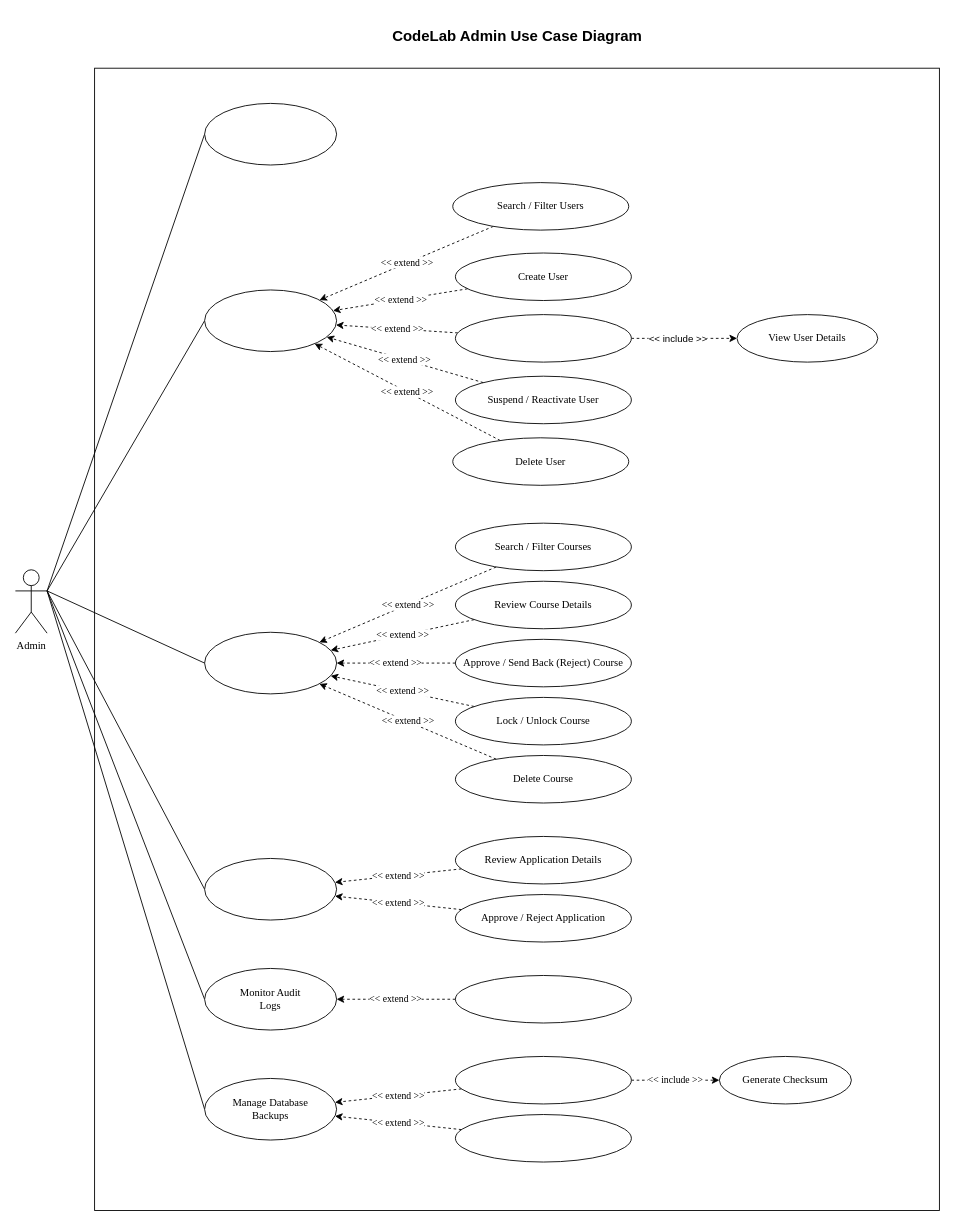
This 955x1226 diagram has some shape labels left out. The centre of each missing label's shape, as x and y in pixels:
"Create Database Backup" goes at pixel 543 1080.
"Download Backup" goes at pixel 543 1138.
"Edit User Details" goes at pixel 543 338.
"Manage Users" goes at pixel 270 320.
"Moderate Courses" goes at pixel 270 662.
"Review Tutor Applications" goes at pixel 270 889.
"Search / Filter Logs" goes at pixel 543 999.
"View Platform Overview" goes at pixel 270 134.
